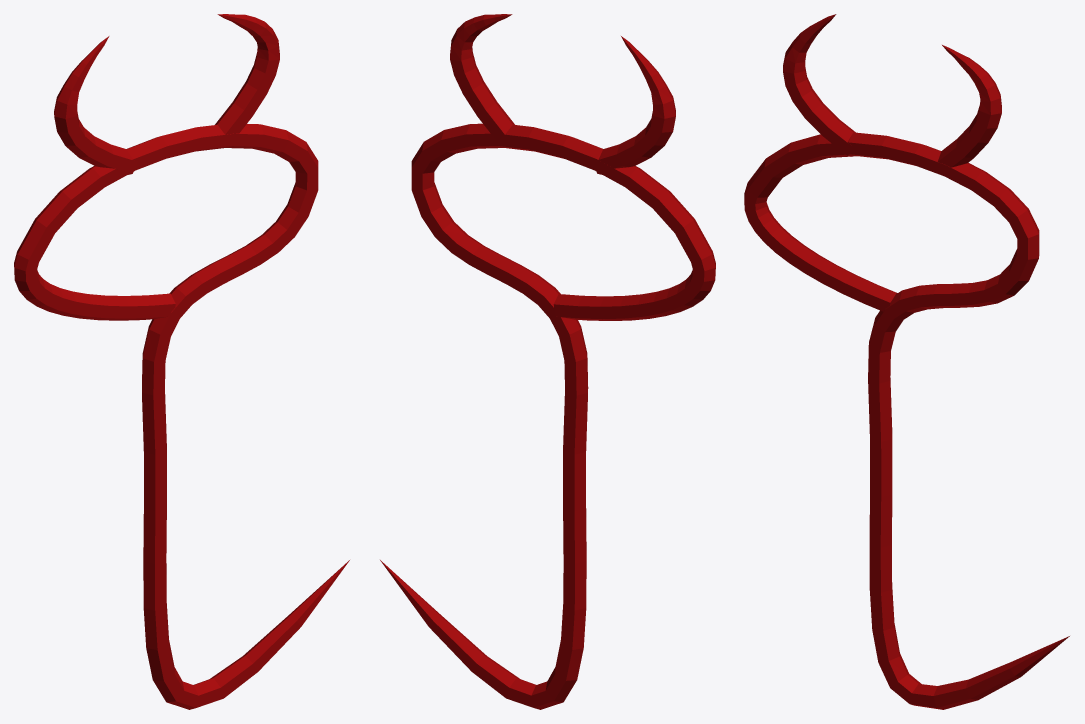
The model's file is devil.obj.
3 views of the same model, side by side, from view 1: azimuth 30°, elevation 25°; view 2: azimuth 150°, elevation 25°; view 3: azimuth 330°, elevation 25° (orthographic). The views are drawn at different scales.
Visible parts, largest first — view 1: BezierCurve_Mesh; view 2: BezierCurve_Mesh; view 3: BezierCurve_Mesh.
Part boxes in pixels (<box>): BezierCurve_Mesh: <box>14,14,349,709</box>; BezierCurve_Mesh: <box>380,14,715,709</box>; BezierCurve_Mesh: <box>744,14,1069,709</box>.
Bounding box in the file's own units: 0.5702 × 1.12 × 0.0349.
